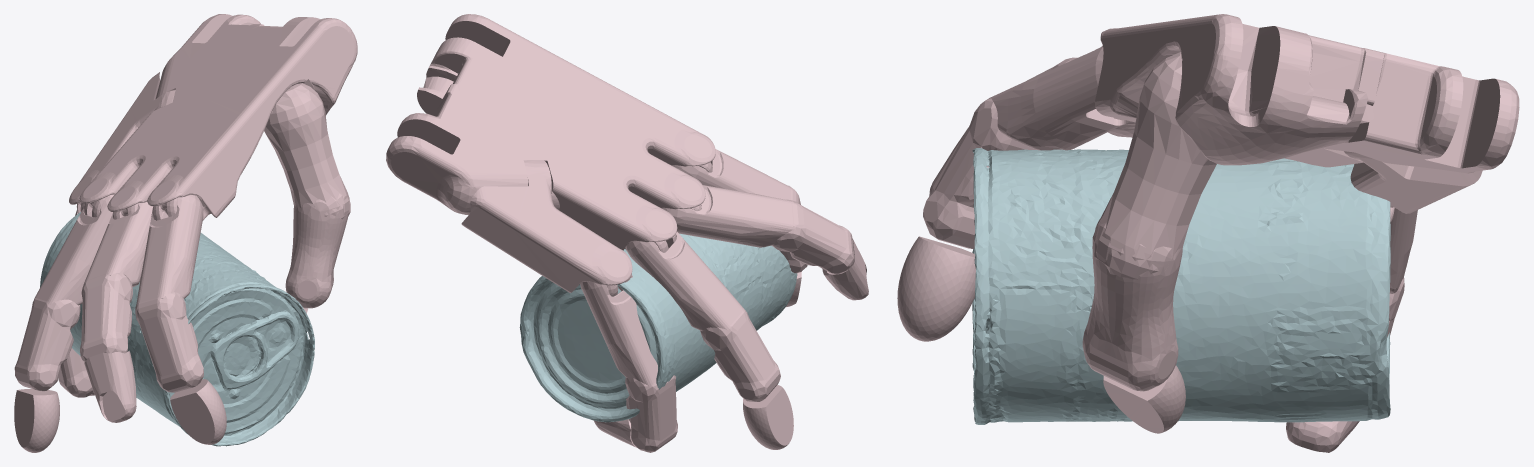
Rendered from grasp_2.glb.
3 views of the same model, side by side, from view 1: azimuth 30°, elevation 25°; view 2: azimuth 150°, elevation 25°; view 3: azimuth 270°, elevation 25° (orthographic). The views are drawn at different scales.
Parts seen in each view (by area): view 1: world; view 2: world; view 3: world.
Part boxes in pixels (left/top/right/bottom): world: left=14, top=14, right=357, bottom=452; world: left=386, top=14, right=868, bottom=452; world: left=897, top=14, right=1519, bottom=452.
Size of the model in its own units: 0.1513 by 0.1537 by 0.1514.
